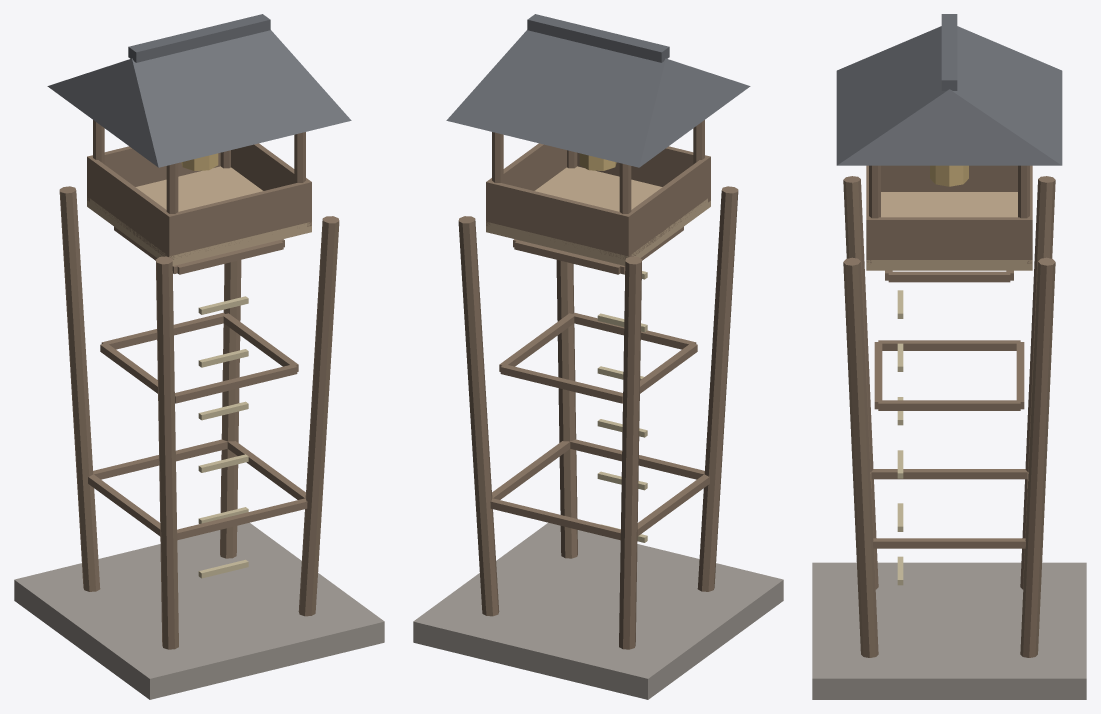
Rendered from service_fire_watchtower.glb.
3 renders of one model, left to right at view 1: azimuth 30°, elevation 25°; view 2: azimuth 150°, elevation 25°; view 3: azimuth 270°, elevation 25°, orthographic.
Parts seen in each view (by area): view 1: Stone_Base, Lookout_Roof, Leg_FR, Leg_BL, Leg_FL, Railing_F, Lookout_Floor, Railing_L, Leg_BR, Lookout_Ridge, Railing_R, Railing_B (+11 smaller); view 2: Stone_Base, Lookout_Roof, Leg_BR, Leg_FL, Leg_BL, Railing_B, Lookout_Floor, Leg_FR, Railing_L, Lookout_Ridge, Railing_R, Railing_F (+11 smaller); view 3: Stone_Base, Lookout_Roof, Leg_BR, Leg_FR, Railing_R, Lookout_Floor, Railing_L, Leg_BL, Leg_FL, Tie_R_0.75, Tie_L_0.75, Tie_R_1.5 (+8 smaller).
Part boxes in pixels (x1=…): Stone_Base: x1=14, y1=522, x2=384, y2=699; Lookout_Roof: x1=47, y1=30, x2=351, y2=167; Leg_FR: x1=298, y1=216, x2=339, y2=616; Leg_BL: x1=59, y1=186, x2=100, y2=591; Leg_FL: x1=155, y1=256, x2=178, y2=649; Railing_F: x1=166, y1=180, x2=311, y2=259; Lookout_Floor: x1=87, y1=166, x2=311, y2=265; Railing_L: x1=88, y1=155, x2=174, y2=259; Leg_BR: x1=220, y1=260, x2=241, y2=558; Lookout_Ridge: x1=128, y1=14, x2=270, y2=62; Railing_R: x1=231, y1=143, x2=311, y2=226; Railing_B: x1=87, y1=146, x2=220, y2=202; Stone_Base: x1=413, y1=522, x2=783, y2=699; Lookout_Roof: x1=446, y1=30, x2=750, y2=167; Leg_BR: x1=458, y1=216, x2=499, y2=616; Leg_FL: x1=697, y1=186, x2=738, y2=591; Leg_BL: x1=619, y1=256, x2=642, y2=649; Railing_B: x1=486, y1=180, x2=631, y2=258; Lookout_Floor: x1=486, y1=166, x2=710, y2=265; Leg_FR: x1=556, y1=260, x2=577, y2=558; Railing_L: x1=623, y1=155, x2=707, y2=259; Lookout_Ridge: x1=527, y1=14, x2=669, y2=62; Railing_R: x1=486, y1=143, x2=566, y2=225; Railing_F: x1=577, y1=146, x2=710, y2=202; Stone_Base: x1=812, y1=562, x2=1086, y2=699; Lookout_Roof: x1=836, y1=26, x2=1062, y2=165; Leg_BR: x1=1020, y1=257, x2=1055, y2=657; Leg_FR: x1=843, y1=257, x2=878, y2=657; Railing_R: x1=866, y1=217, x2=1032, y2=259; Lookout_Floor: x1=866, y1=192, x2=1032, y2=270; Railing_L: x1=881, y1=165, x2=1017, y2=191; Leg_BL: x1=1020, y1=176, x2=1055, y2=589; Leg_FL: x1=843, y1=176, x2=878, y2=589; Tie_R_0.75: x1=873, y1=538, x2=1025, y2=548; Tie_L_0.75: x1=871, y1=469, x2=1027, y2=479; Tie_R_1.5: x1=878, y1=400, x2=1020, y2=410.
Bounding box in the file's own units: 1.4 × 3.35 × 1.4.
